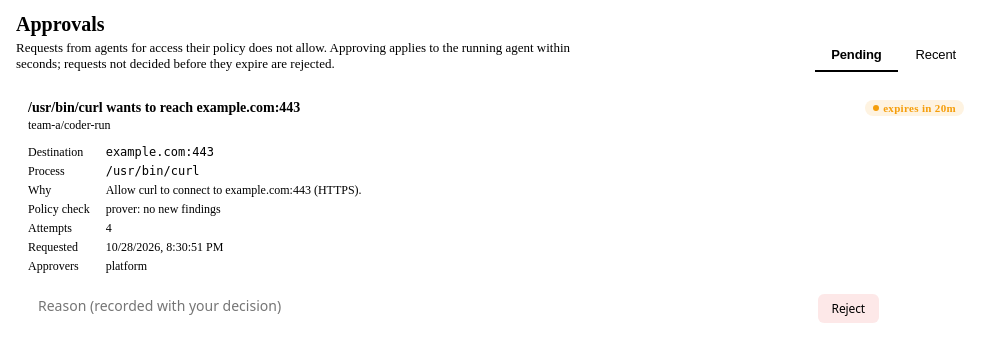
Scenario: ApprovalsView › shows why a decision was refused
Click the button "Reject". click: (848, 308)
box: [818,294,879,323]
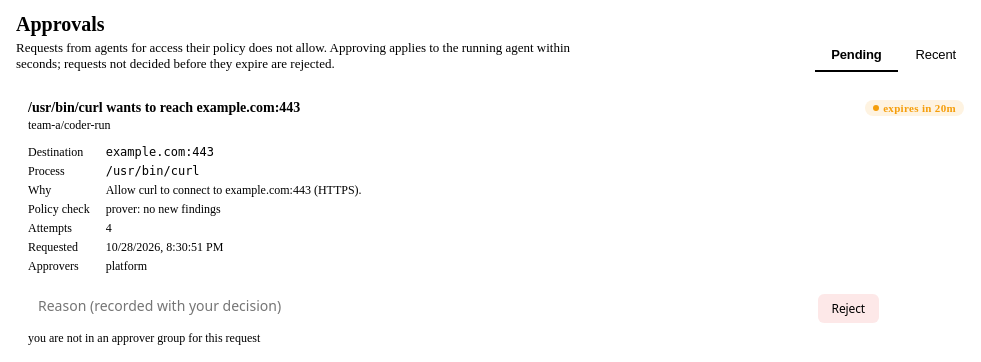
Expected: the message shows "not in an approver group", [28,331,260,345]
